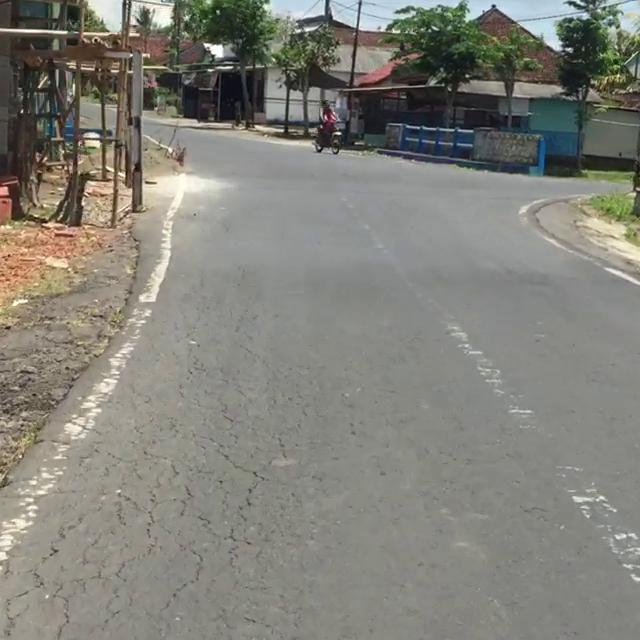retak_kulit_buaya: (20, 375, 287, 640)
